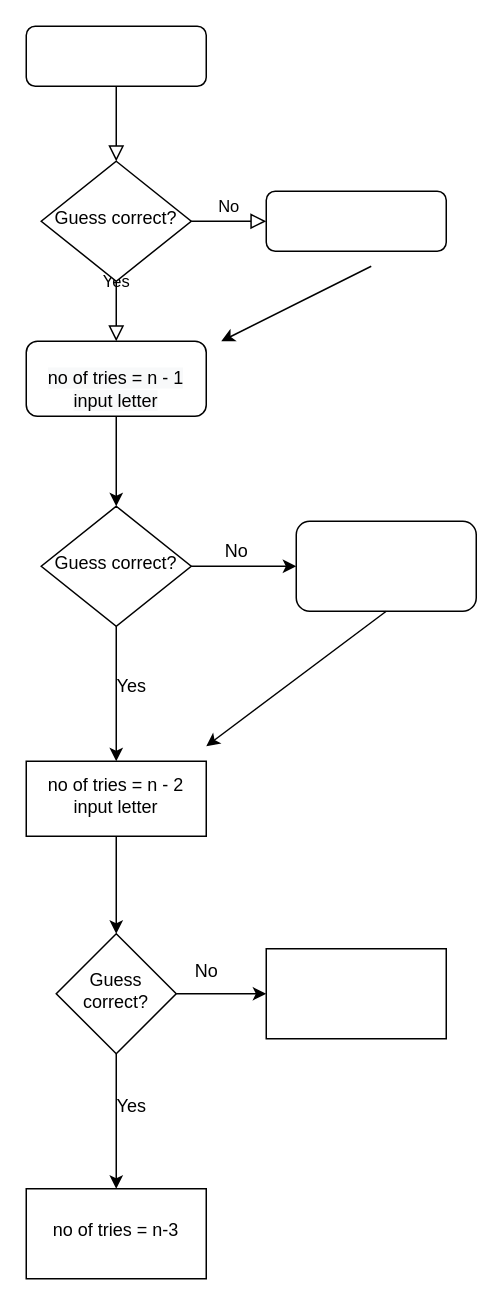
This 503x1305 diagram has some shape labels left out. Each missing label, with the box of its shape:
draw the head: (295, 520, 476, 611)
draw the post: (265, 190, 446, 251)
input letter: (25, 25, 206, 86)
